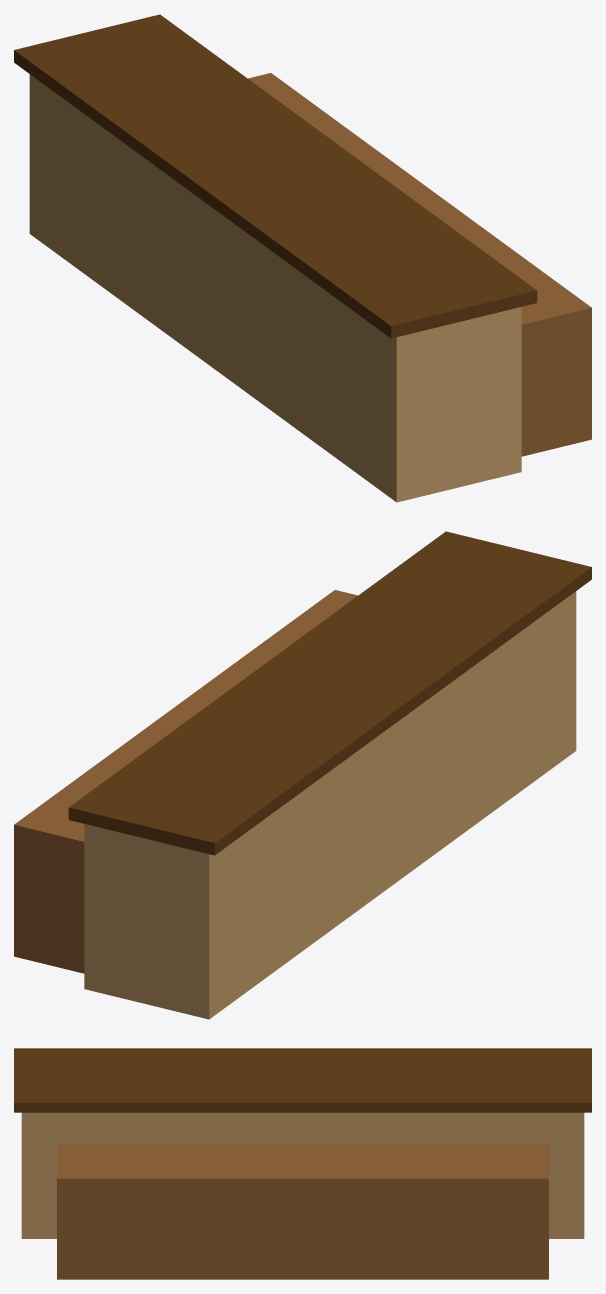
The model's file is desk.fbx.
3 renders of one model, top to bottom at view 1: azimuth 30°, elevation 25°; view 2: azimuth 150°, elevation 25°; view 3: azimuth 270°, elevation 25°, orthographic. The views are drawn at different scales.
Parts seen in each view (by area): view 1: Cube, Cube.002, Cube.001; view 2: Cube, Cube.002, Cube.001; view 3: Cube.001, Cube.002, Cube.
Boxes of the visible parts, x1,y1,x2,y2 form: Cube: [29, 74, 521, 502]; Cube.002: [14, 14, 537, 338]; Cube.001: [248, 73, 591, 456]; Cube: [84, 591, 576, 1019]; Cube.002: [68, 531, 591, 855]; Cube.001: [14, 590, 357, 973]; Cube.001: [57, 1143, 548, 1279]; Cube.002: [14, 1048, 591, 1112]; Cube: [21, 1112, 584, 1238].
Bounding box in the file's own units: 367 × 291 × 1047.
